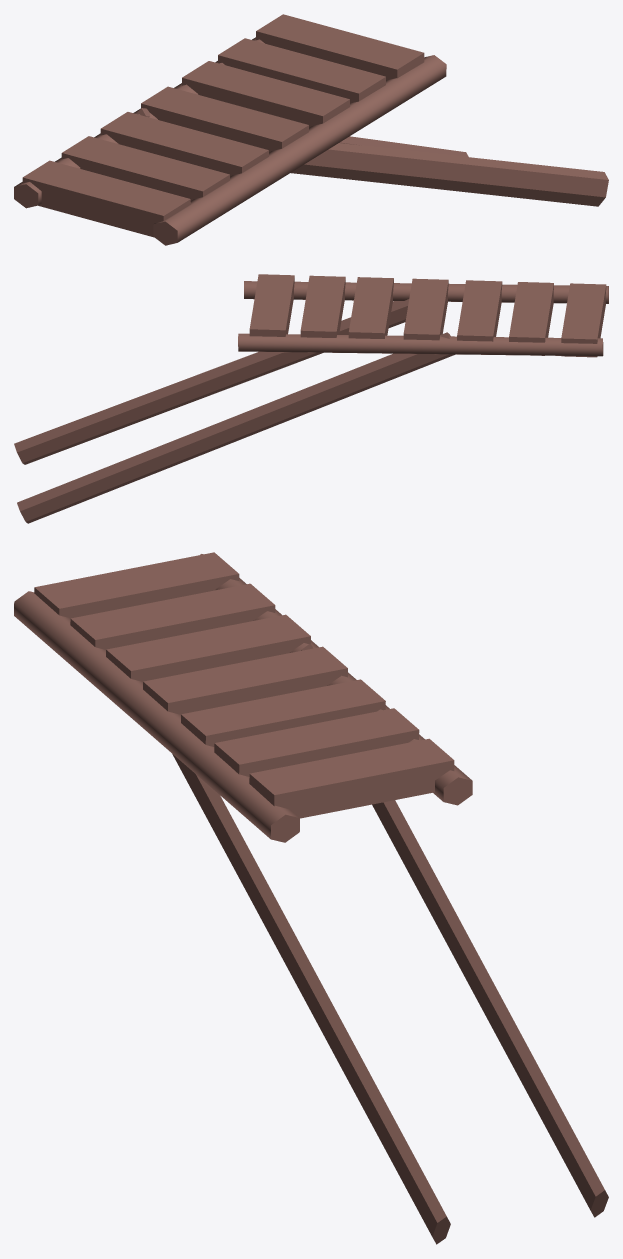
The model's file is pont.fbx.
3 views of the same model, one above another, from view 1: azimuth 30°, elevation 25°; view 2: azimuth 150°, elevation 25°; view 3: azimuth 270°, elevation 25° (orthographic). The views are drawn at different scales.
Parts seen in each view (by area): view 1: Cylinder__1_, Cylinder_1, Cube__6_, Cube__2_, pont, Cube, Cube__4_, Cube__5_, Cube__1_, Cylinder__1__1, Cylinder; view 2: Cylinder, Cylinder__1_, Cylinder__1__1, Cube, Cube__1_, Cube__2_, Cube__6_, pont, Cube__4_, Cube__5_, Cylinder_1; view 3: Cylinder__1_, Cylinder_1, Cylinder, Cube, pont, Cube__4_, Cube__1_, Cube__5_, Cube__6_, Cube__2_, Cylinder__1__1.
Boxes of the visible parts, <box> form: Cylinder__1_: <box>291,143,608,206</box>; Cylinder_1: <box>153,55,446,245</box>; Cube__6_: <box>22,160,190,237</box>; Cube__2_: <box>182,61,350,127</box>; pont: <box>141,86,308,152</box>; Cube: <box>256,14,424,80</box>; Cube__4_: <box>100,112,268,176</box>; Cube__5_: <box>61,136,229,200</box>; Cube__1_: <box>218,38,385,103</box>; Cylinder__1__1: <box>14,37,264,208</box>; Cylinder: <box>136,108,468,156</box>; Cylinder: <box>17,332,455,523</box>; Cylinder__1_: <box>14,299,409,464</box>; Cylinder__1__1: <box>238,333,603,356</box>; Cube: <box>249,274,294,336</box>; Cube__1_: <box>300,275,345,337</box>; Cube__2_: <box>348,277,393,338</box>; Cube__6_: <box>561,283,606,357</box>; pont: <box>403,278,448,340</box>; Cube__4_: <box>457,280,502,341</box>; Cube__5_: <box>509,282,553,355</box>; Cylinder_1: <box>244,281,608,303</box>; Cylinder__1_: <box>172,754,450,1244</box>; Cylinder_1: <box>14,591,299,842</box>; Cylinder: <box>301,643,608,1217</box>; Cube: <box>249,738,454,818</box>; pont: <box>143,646,347,714</box>; Cube__4_: <box>106,614,310,681</box>; Cube__1_: <box>214,708,419,776</box>; Cube__5_: <box>70,583,275,649</box>; Cube__6_: <box>34,552,239,618</box>; Cube__2_: <box>181,679,385,746</box>; Cylinder__1__1: <box>200,554,472,805</box>.
Size of the model in its own units: 20.74 by 7.93 by 13.2.
